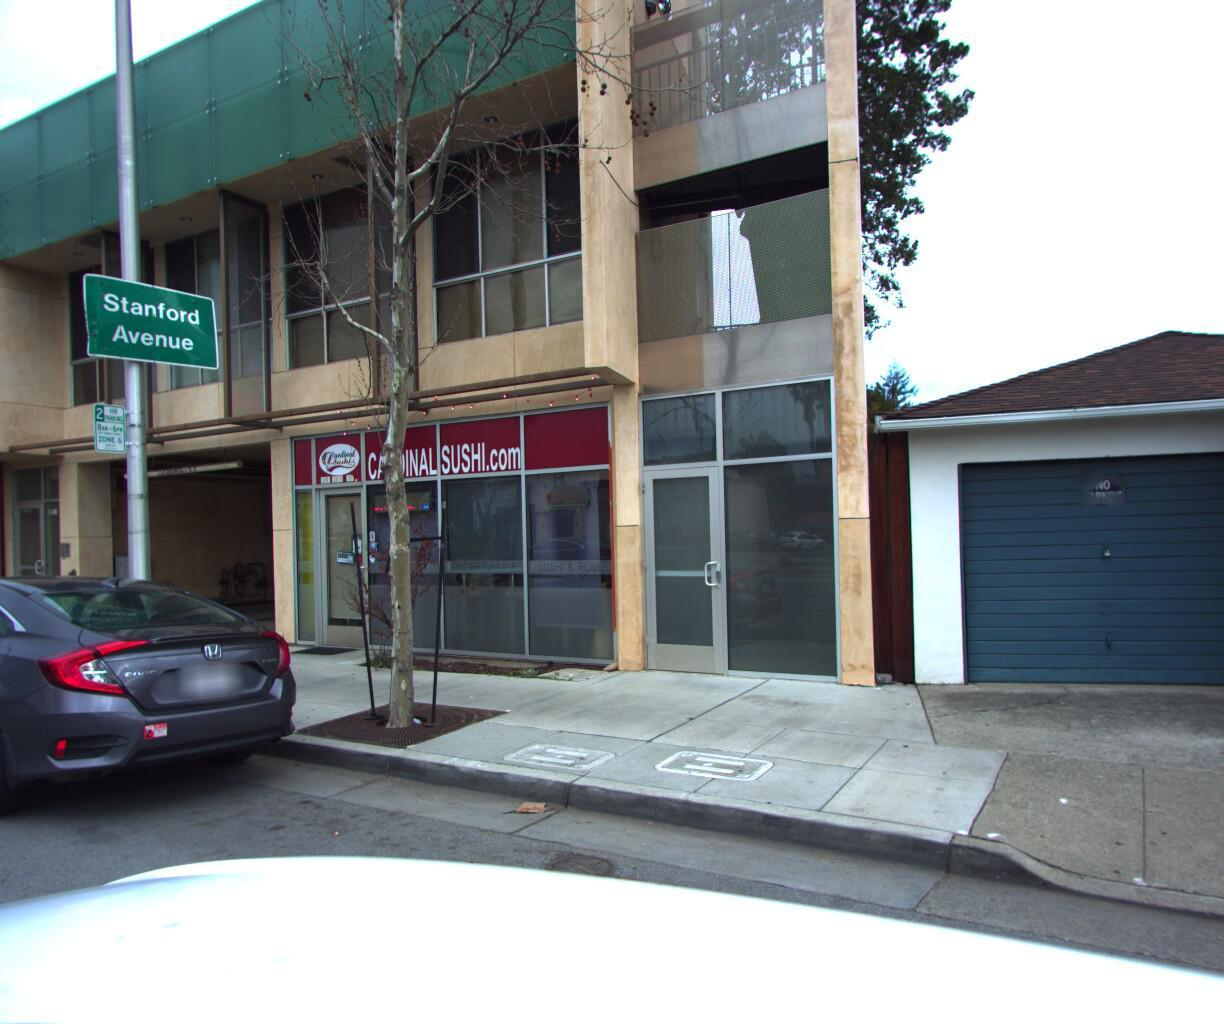car: (0, 552, 339, 887)
